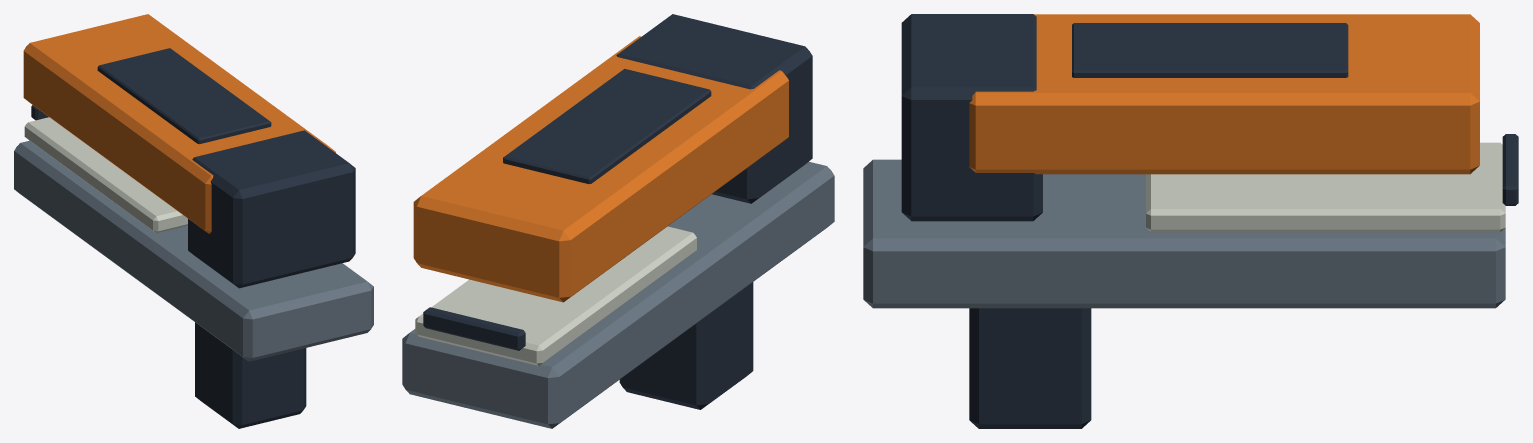
The model's file is nda-stapler.glb.
The picture shows the model from 3 angles, left to right: view 1: azimuth 30°, elevation 25°; view 2: azimuth 150°, elevation 25°; view 3: azimuth 270°, elevation 25°; orthographic projection. The views are drawn at different scales.
Visible parts, largest first — view 1: nda-stapler_Body, nda-stapler_Mechanism; view 2: nda-stapler_Body, nda-stapler_Mechanism; view 3: nda-stapler_Body, nda-stapler_Mechanism.
Part boxes in pixels (x1,y1,x2,y2): nda-stapler_Body: (14, 105, 373, 428); nda-stapler_Mechanism: (23, 14, 335, 233); nda-stapler_Body: (402, 14, 834, 428); nda-stapler_Mechanism: (413, 36, 788, 302); nda-stapler_Body: (863, 14, 1518, 428); nda-stapler_Mechanism: (969, 14, 1479, 174).
Bounding box in the file's own units: 0.32 × 0.622 × 1.02.
